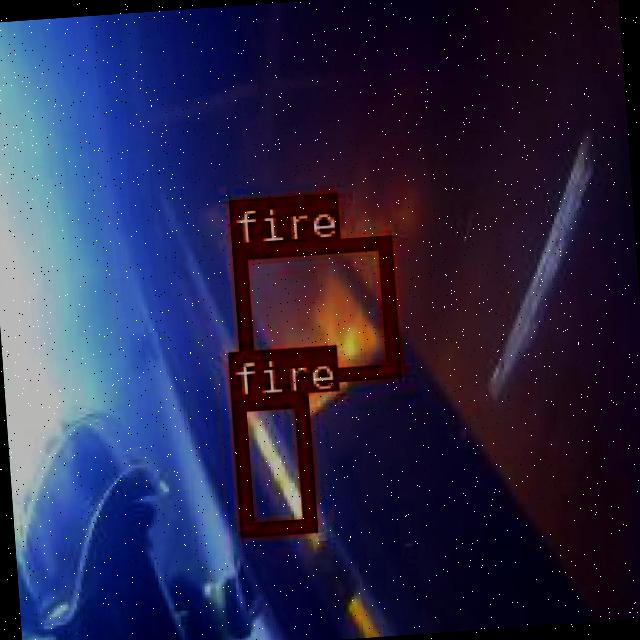fire: (231, 234, 396, 386), (231, 390, 312, 533)
